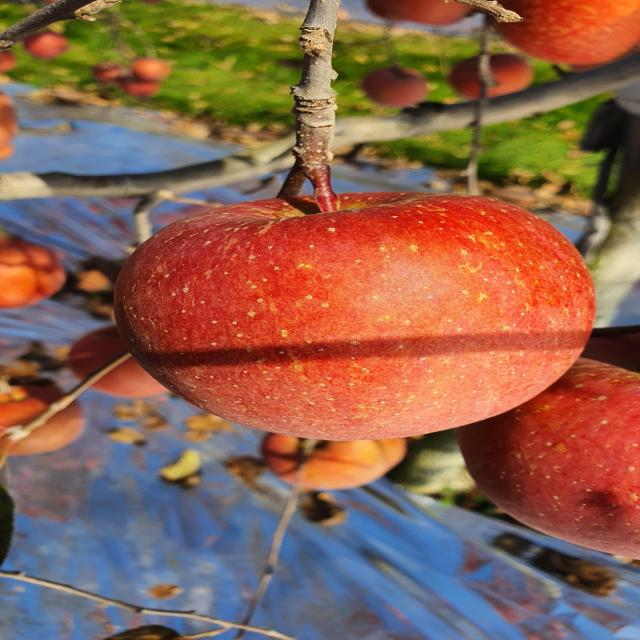fresh: (109, 184, 617, 446)
